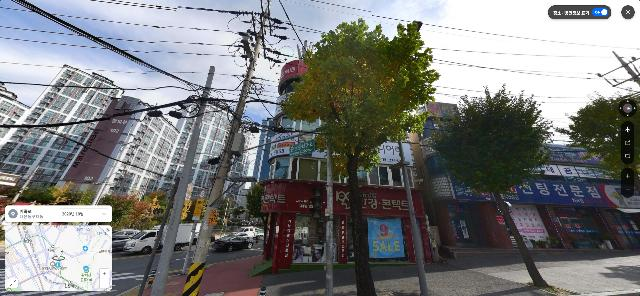other: (281, 18, 440, 296), (427, 84, 556, 289), (566, 86, 640, 184), (12, 179, 83, 225), (71, 189, 135, 225), (111, 191, 160, 231), (148, 189, 176, 229), (246, 188, 269, 236), (178, 197, 201, 224), (226, 203, 249, 227), (216, 197, 230, 227)
